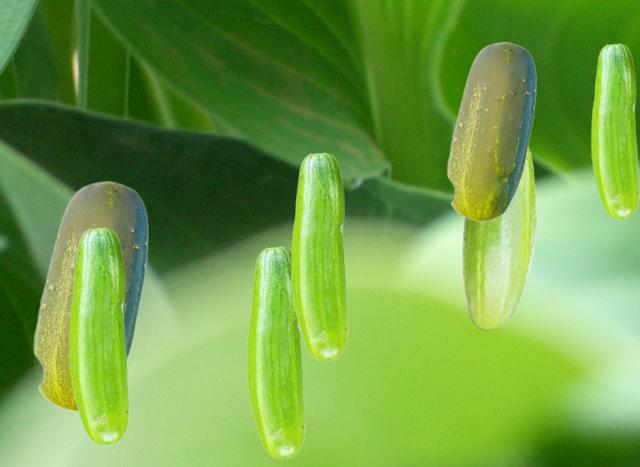cucumber: (32, 180, 147, 411), (446, 41, 535, 221), (461, 147, 536, 330), (69, 227, 128, 444), (247, 246, 304, 458), (291, 152, 347, 360), (591, 43, 638, 218)
